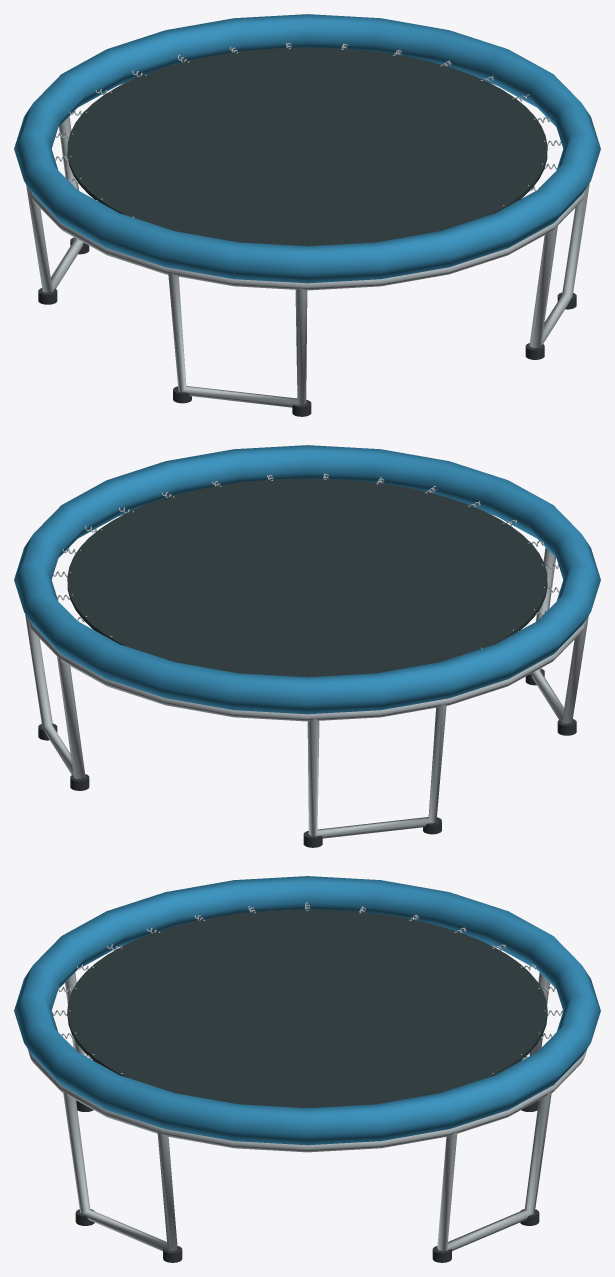
The model's file is trampoline.glb.
3 views of the same model, one above another, from view 1: azimuth 30°, elevation 25°; view 2: azimuth 150°, elevation 25°; view 3: azimuth 270°, elevation 25° (orthographic).
Parts seen in each view (by area): view 1: Round jumping mat, Thick circular safety pad, Steel supporting trampoline rim, Grounded U-shaped trampoline leg 3, Grounded U-shaped trampoline leg 4, Grounded U-shaped trampoline leg 2; view 2: Round jumping mat, Thick circular safety pad, Steel supporting trampoline rim, Grounded U-shaped trampoline leg 2, Grounded U-shaped trampoline leg 1, Grounded U-shaped trampoline leg 3; view 3: Round jumping mat, Thick circular safety pad, Steel supporting trampoline rim, Grounded U-shaped trampoline leg 1, Grounded U-shaped trampoline leg 4.
Part boxes in pixels (<box>): Round jumping mat: <box>67,47,547,246</box>; Thick circular safety pad: <box>14,14,600,283</box>; Steel supporting trampoline rim: <box>27,82,587,290</box>; Grounded U-shaped trampoline leg 3: <box>168,273,307,407</box>; Grounded U-shaped trampoline leg 4: <box>529,183,589,347</box>; Grounded U-shaped trampoline leg 2: <box>26,116,83,292</box>; Round jumping mat: <box>67,478,547,677</box>; Thick circular safety pad: <box>14,445,600,714</box>; Steel supporting trampoline rim: <box>27,513,587,721</box>; Grounded U-shaped trampoline leg 2: <box>307,704,446,838</box>; Grounded U-shaped trampoline leg 1: <box>25,614,85,778</box>; Grounded U-shaped trampoline leg 3: <box>531,547,588,723</box>; Round jumping mat: <box>67,909,547,1108</box>; Thick circular safety pad: <box>14,876,600,1145</box>; Steel supporting trampoline rim: <box>27,945,587,1152</box>; Grounded U-shaped trampoline leg 1: <box>437,1092,551,1251</box>; Grounded U-shaped trampoline leg 4: <box>63,1092,177,1251</box>.
Size of the model in its own units: 2.55 by 0.811 by 2.55.
